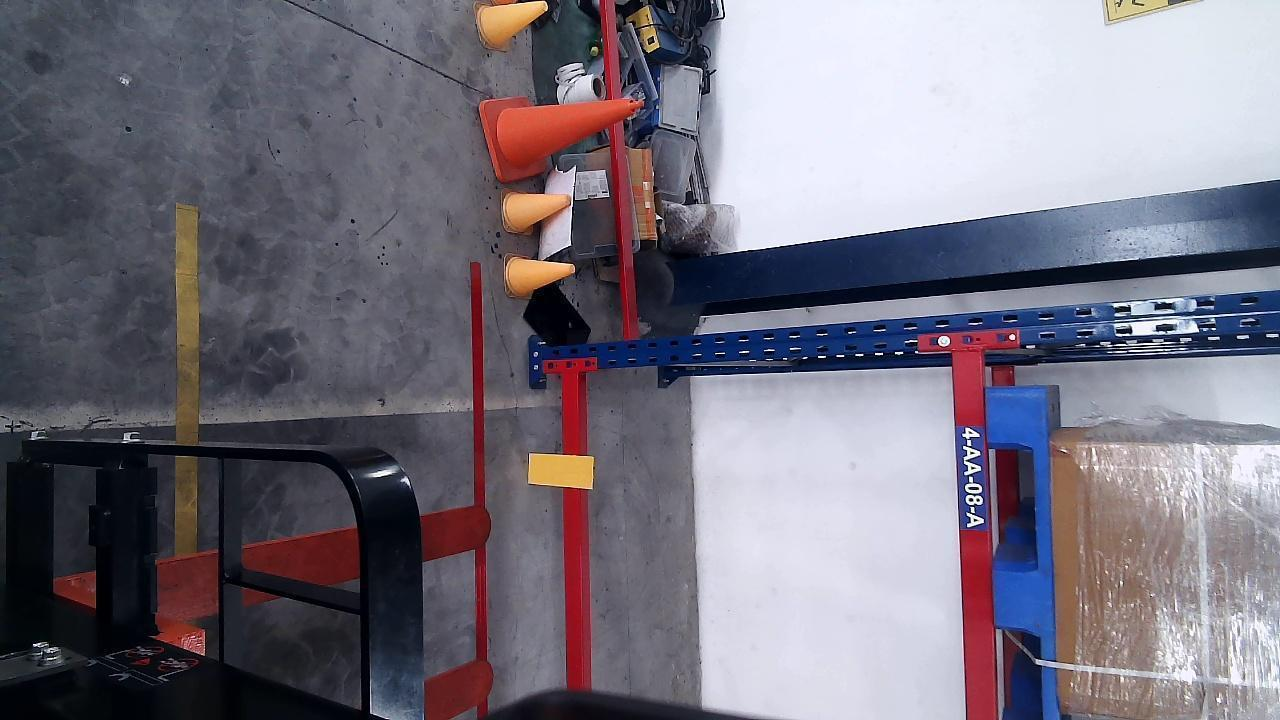red_line: (468, 259, 486, 657)
yellow_line: (173, 202, 202, 554)
